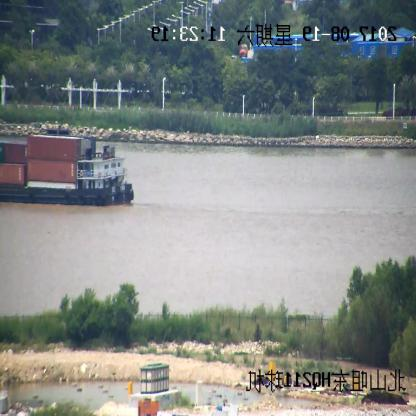Container Ship: (0, 133, 134, 205)
